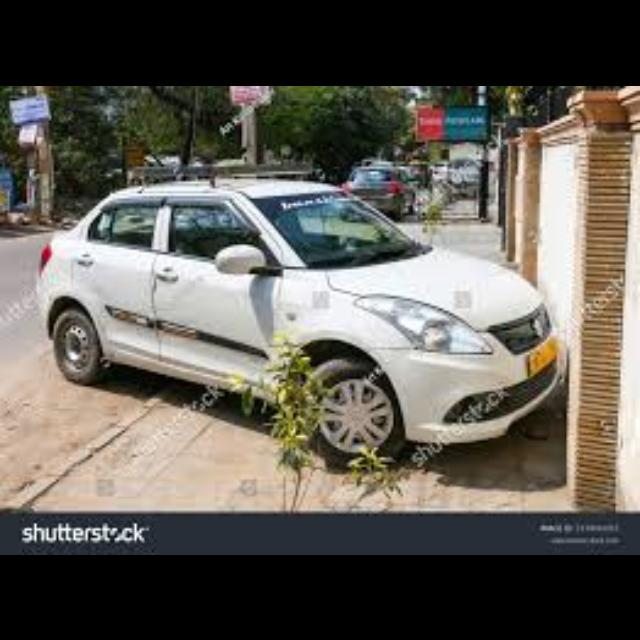number-plate: (17, 518, 149, 545), (526, 337, 555, 376)
vehicles: (30, 158, 567, 468), (342, 163, 418, 217), (431, 156, 482, 195)
